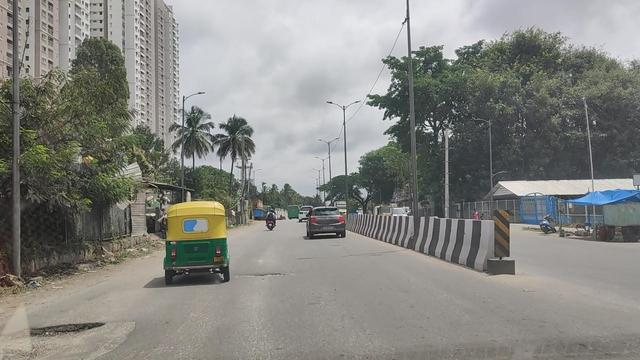LMV: (167, 201, 230, 286), (307, 209, 347, 236), (268, 208, 279, 229)
RoadDamages: (1, 317, 135, 354), (239, 265, 285, 284)
